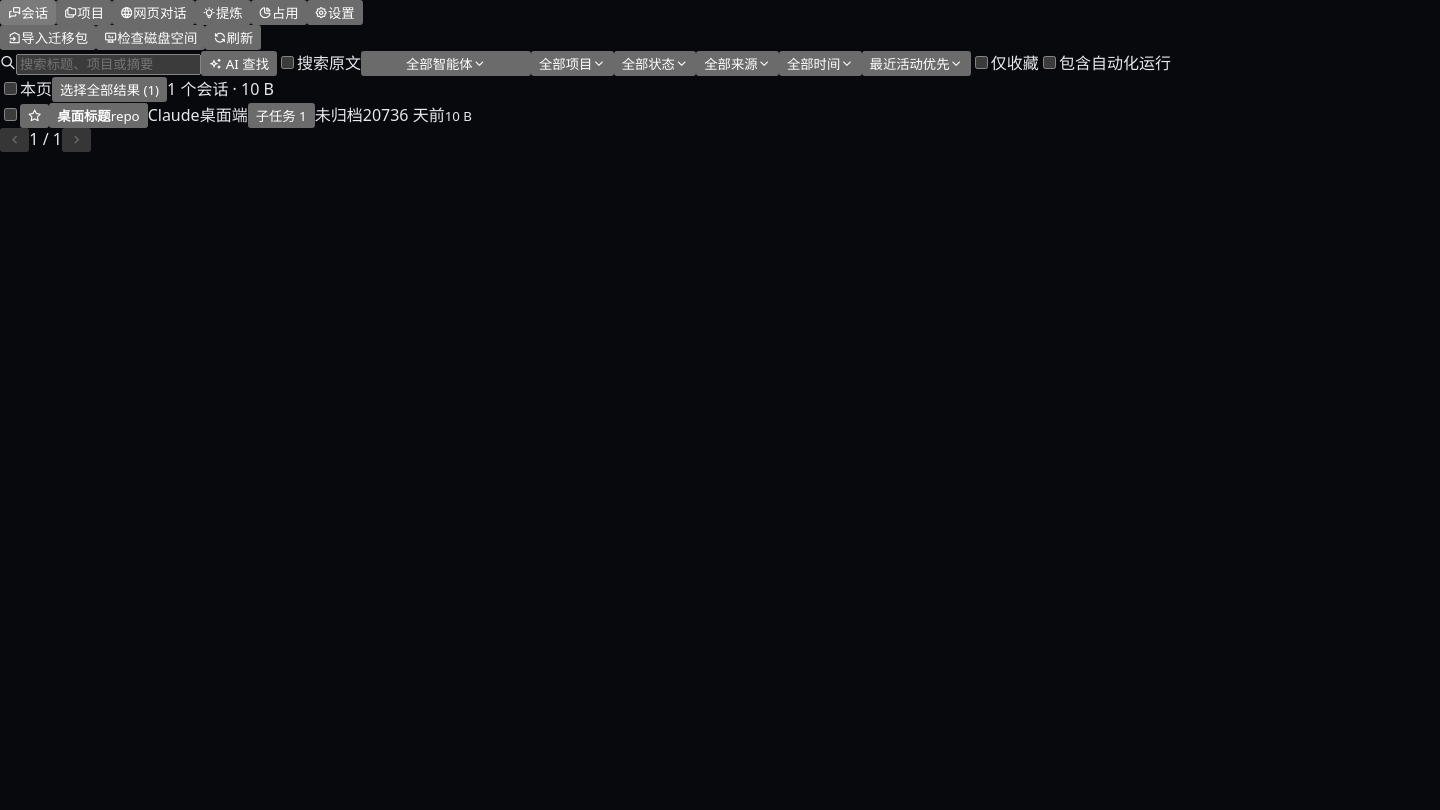
it: session catalog › previews deletion with slim export and shows blocked sessions
The width and height of the screenshot is (1440, 810).
What coordinates should you click on to do the following:
click the checkbox named "桌面标题"
I would click on:
 (10, 114)
Its box is [4,108,17,121].
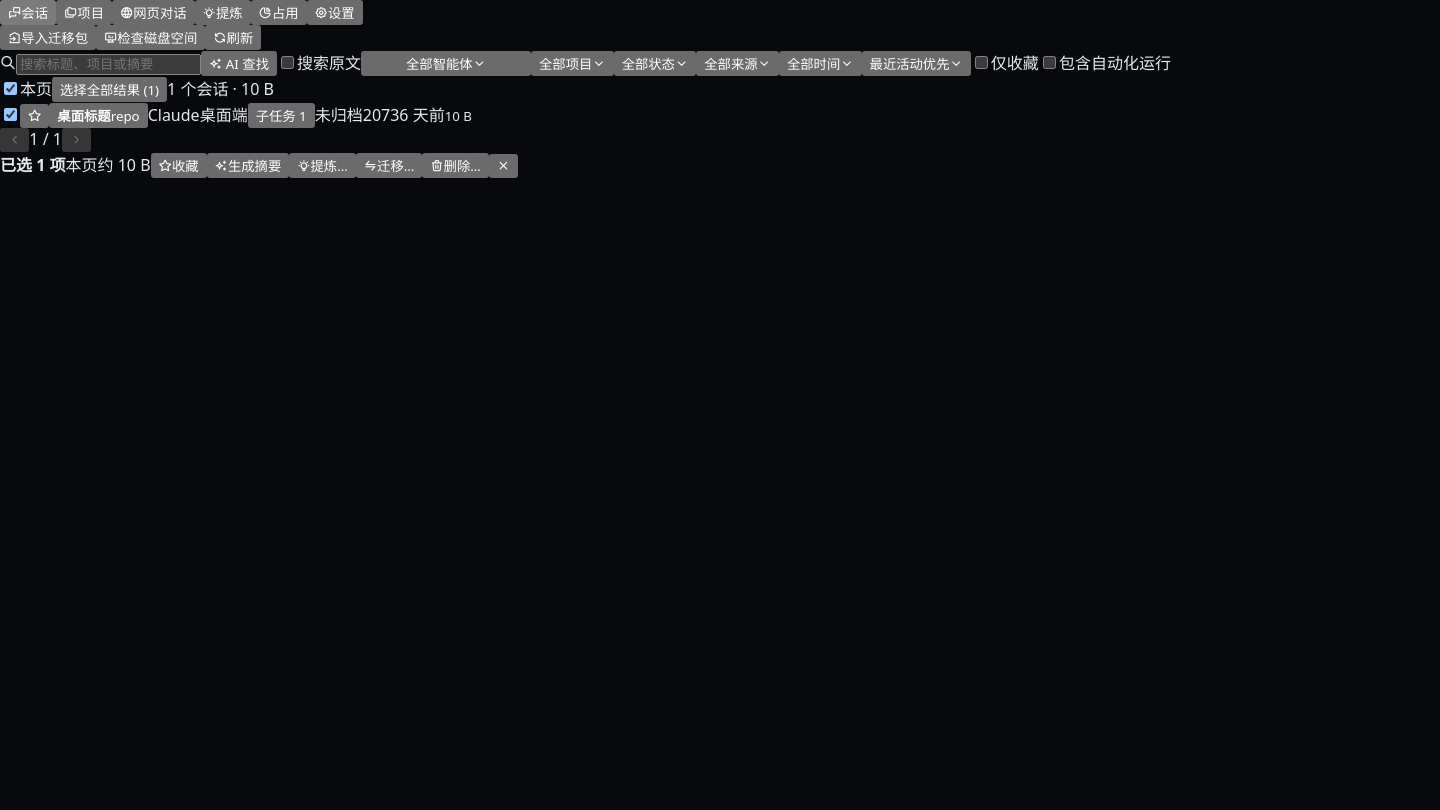
Result: the button "删除…" is shown
What coordinates should you click on to do the following:
click the button "删除…"
I would click on:
 (456, 166)
Its box is [422,153,489,178].
Wait 10 ms
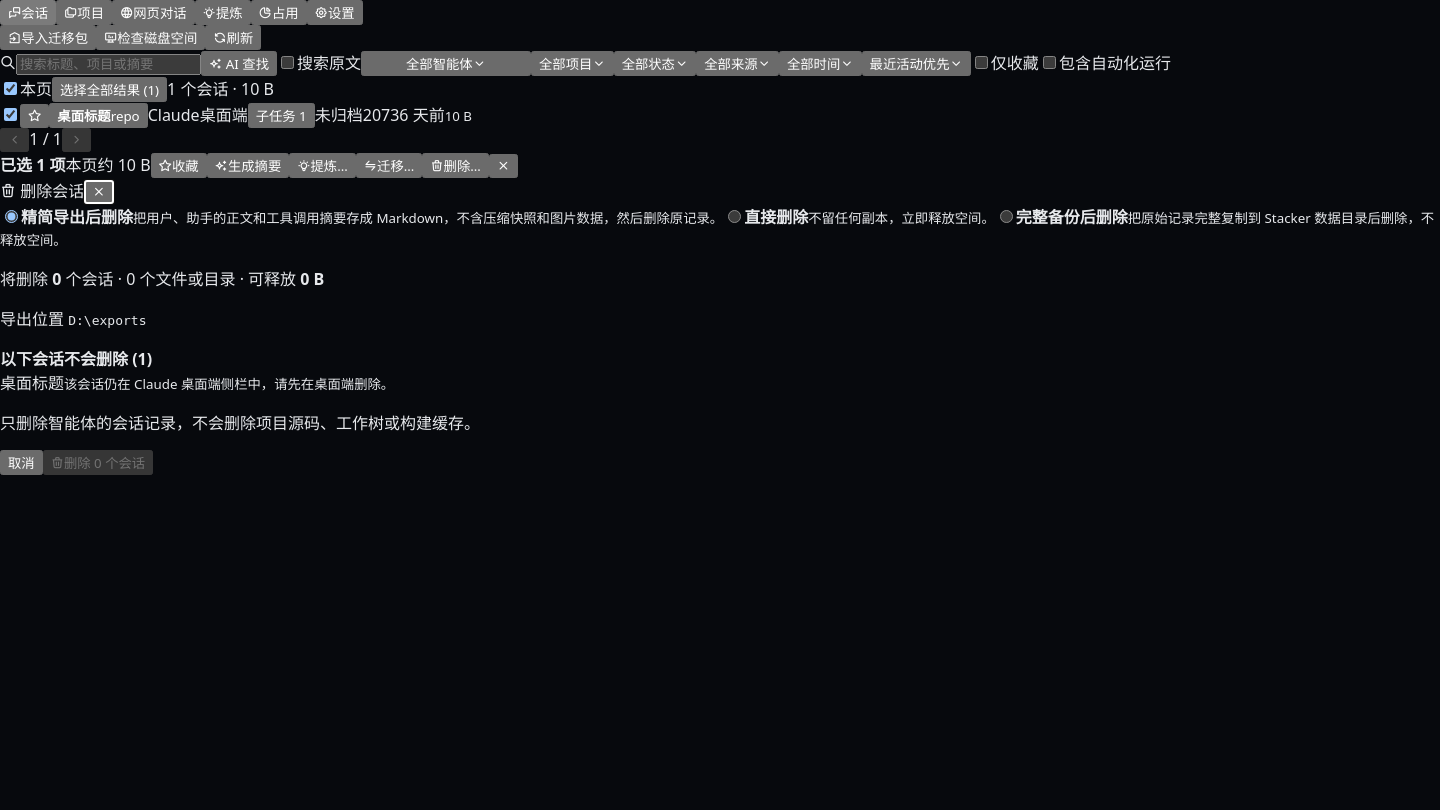
Result: the text "请先在桌面端删除" is shown at [64,375,394,393]
